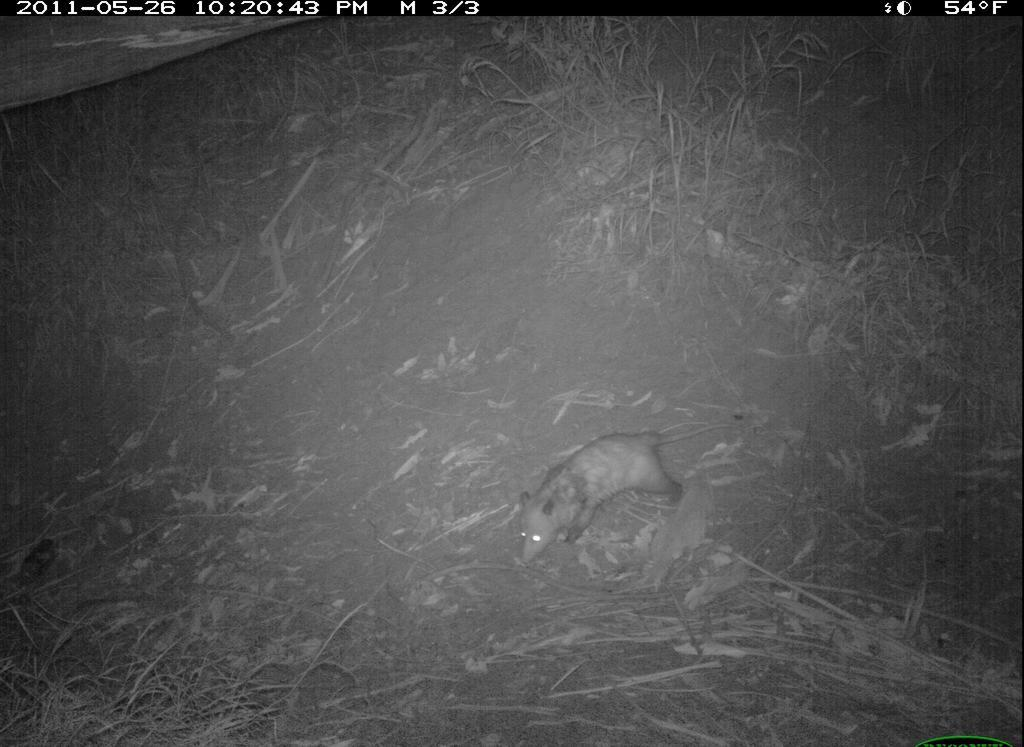opossum: (515, 415, 743, 571)
